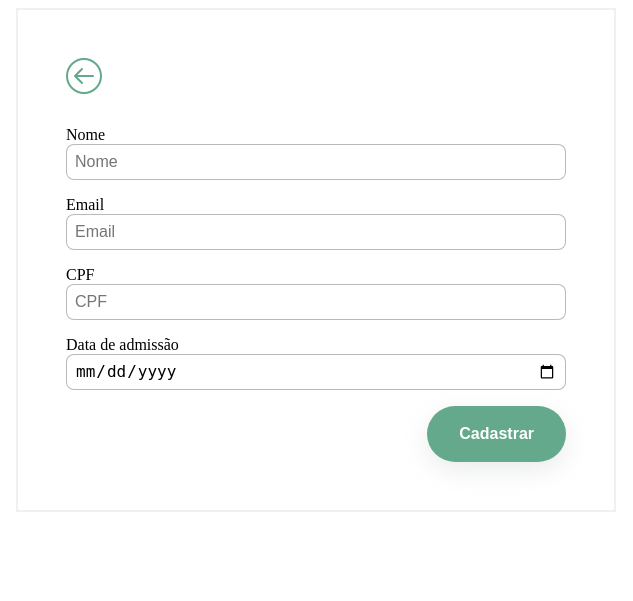
Test: NewUserPage Integration › should show error message when submitting form with Nome having less than two letters
In the field with test id "text-field-name": (316, 162) [66,144,566,180], type "d"
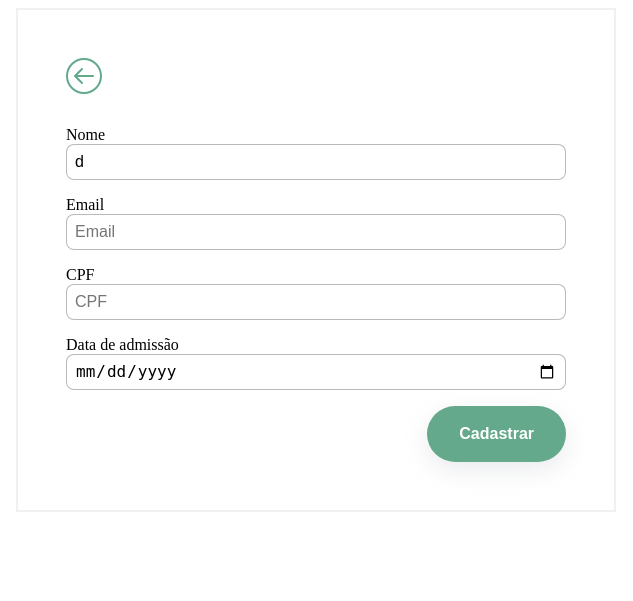
Click the button with test id "submit-form": (497, 434) [427,406,566,462]
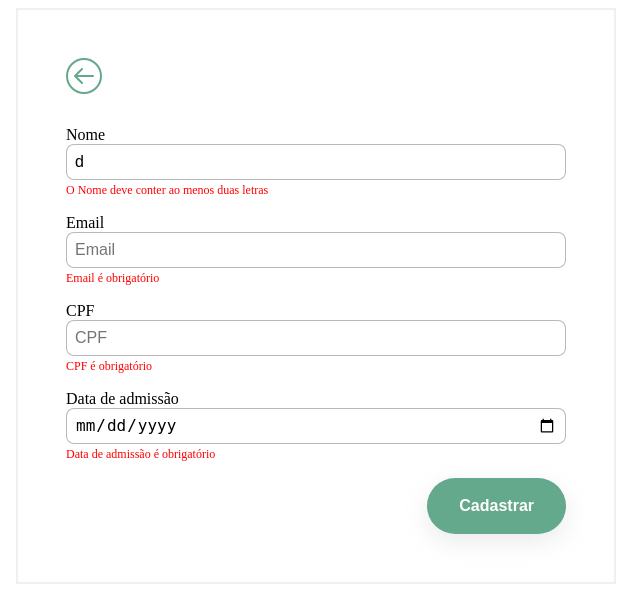
Expected: the text with test id "error-text-field-name" reads "O Nome deve conter ao menos duas letras", [66,183,268,197]
